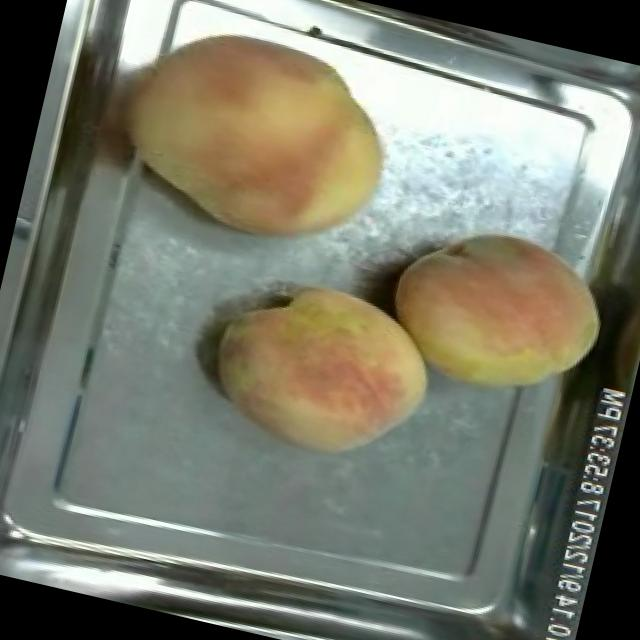Fruit: (97, 0, 418, 269), (192, 256, 451, 482), (368, 200, 626, 422)
